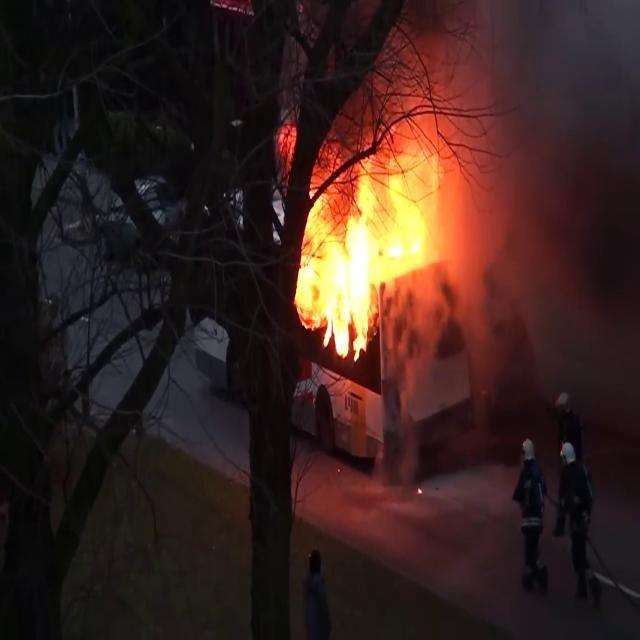Fire: (298, 144, 462, 368)
Smoke: (434, 0, 639, 372)
